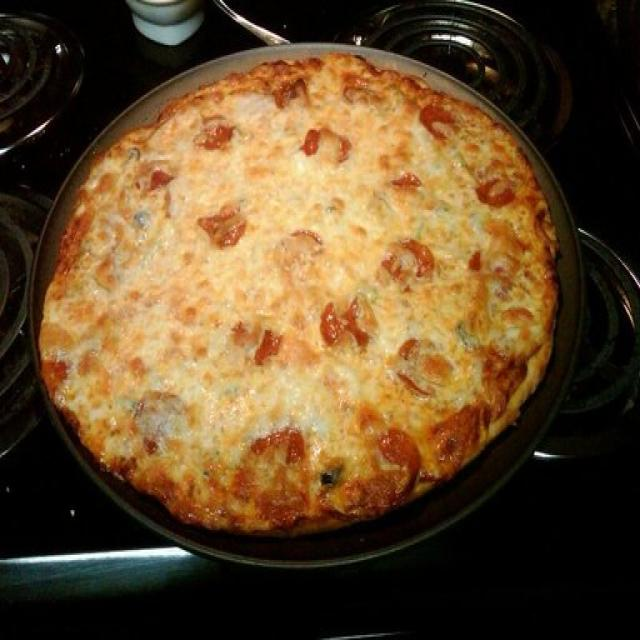Pizza: (39, 55, 555, 537)
Tomato: (143, 384, 183, 455), (320, 306, 373, 348), (380, 240, 430, 282), (196, 206, 243, 250), (278, 229, 323, 273), (400, 342, 438, 394), (383, 427, 418, 471), (256, 437, 308, 464), (421, 103, 457, 141), (476, 176, 516, 209), (299, 136, 352, 159), (195, 127, 234, 150), (253, 335, 282, 365), (148, 166, 170, 190), (388, 174, 416, 187), (468, 248, 481, 274)
